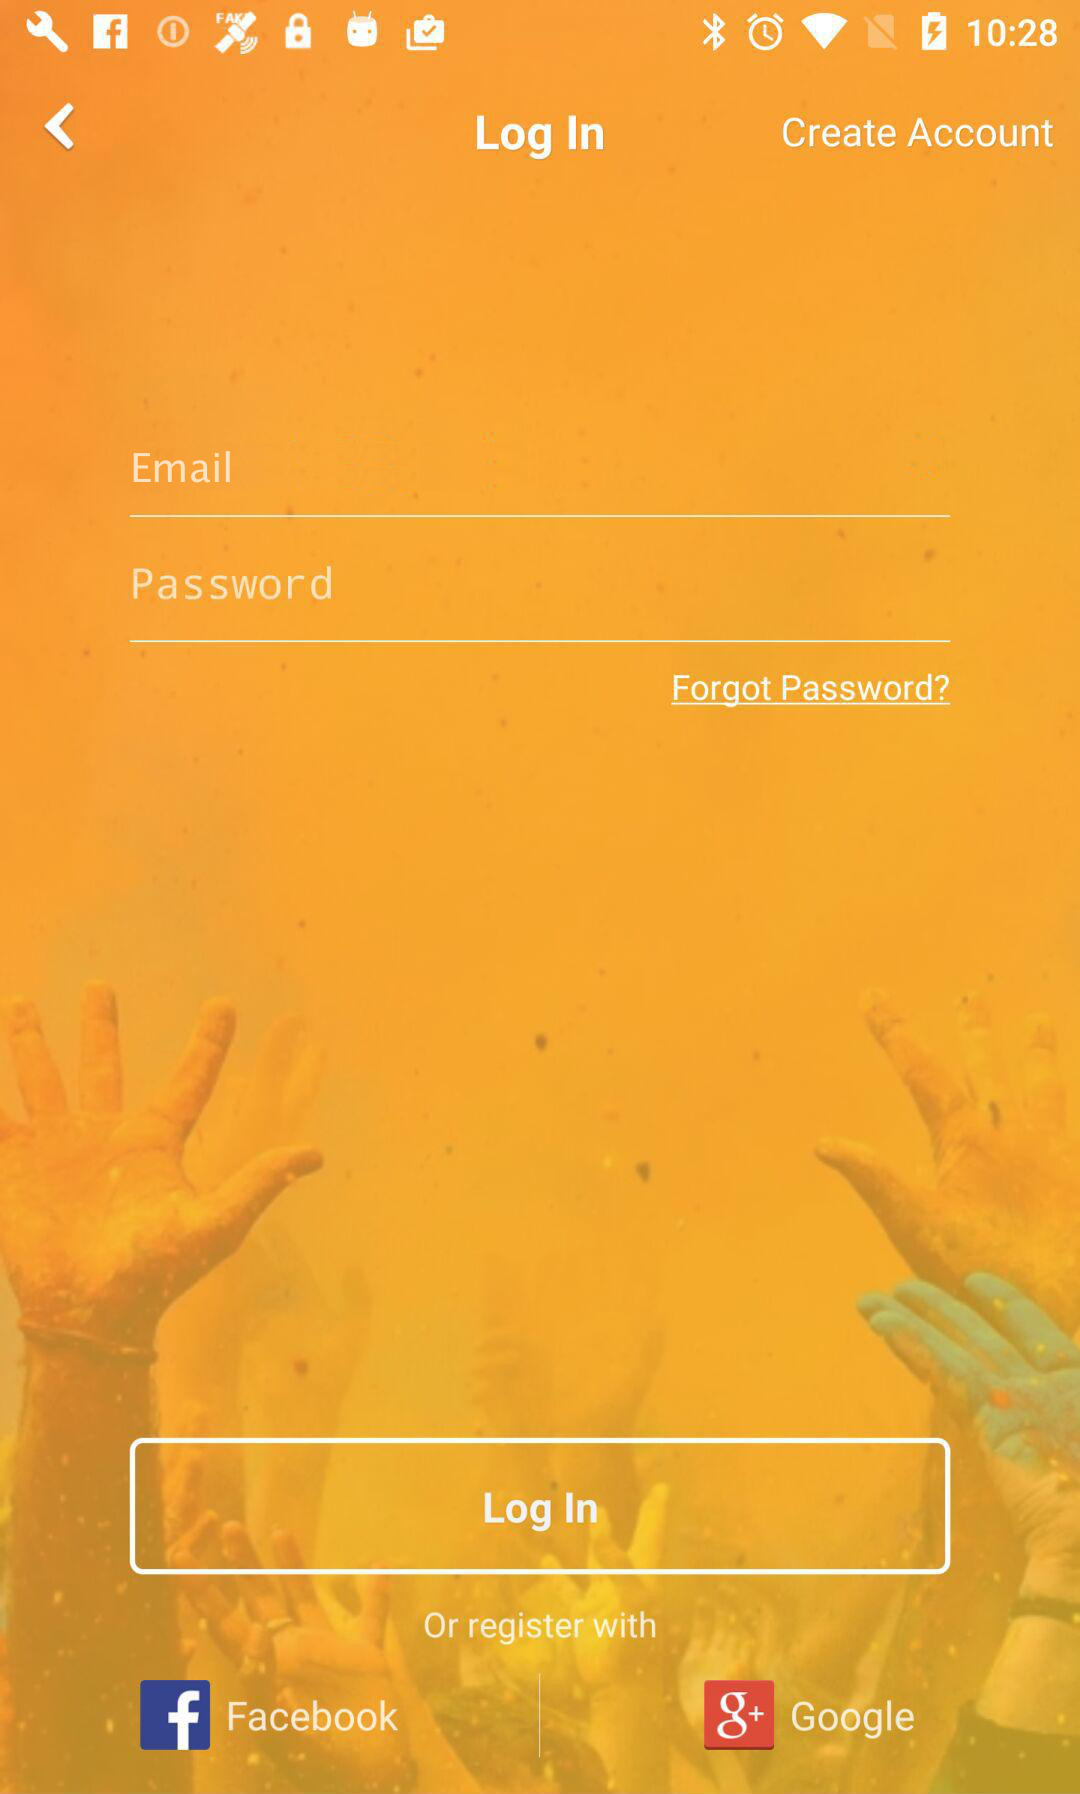BackgroundImage: (1, 64, 1080, 1794)
EditText: (129, 565, 951, 645), (129, 451, 951, 519)
Icon: (141, 1680, 211, 1750), (705, 1680, 775, 1750), (44, 103, 76, 152)
Text: (671, 673, 951, 709), (781, 117, 1054, 150), (424, 1609, 657, 1647), (132, 565, 333, 601), (477, 114, 605, 161), (228, 1699, 400, 1732), (790, 1698, 915, 1740), (135, 452, 232, 484)
TextButton: (129, 1436, 951, 1575)
UpperTaskBar: (1, 1, 1080, 64)
